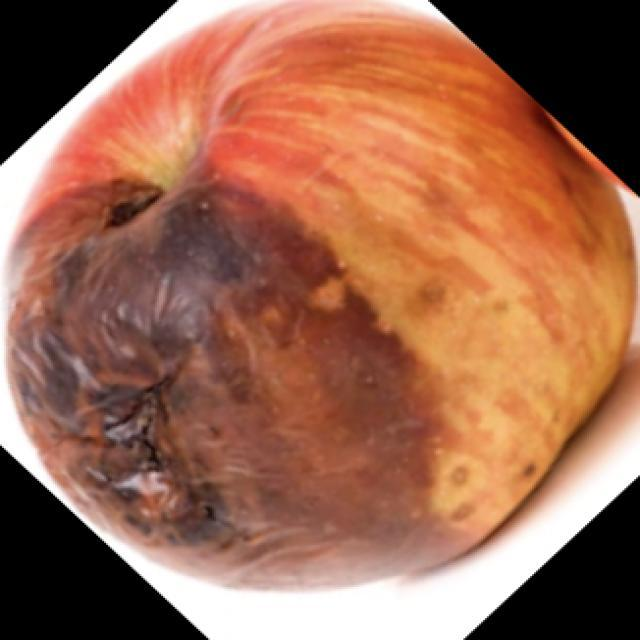Rotten: (23, 23, 617, 570)
